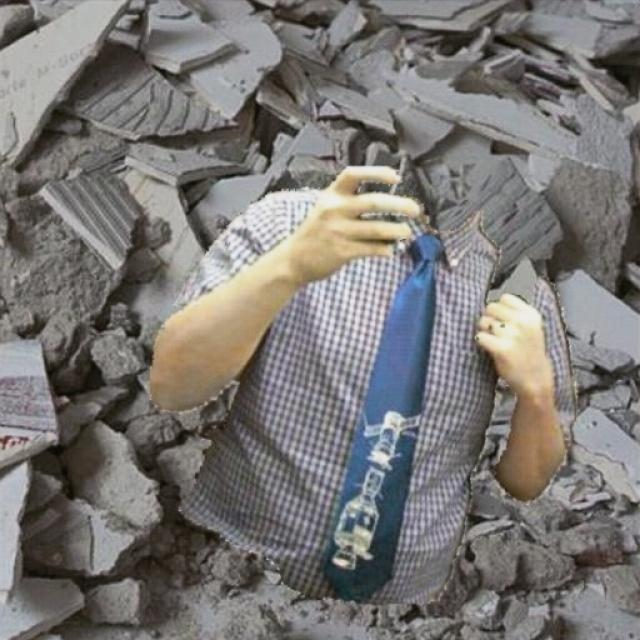Person in Rubble: (150, 167, 578, 602)
